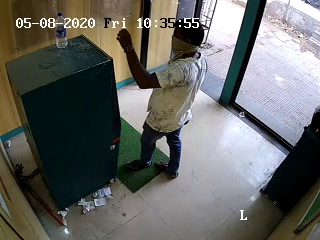open: (138, 5, 254, 115)
